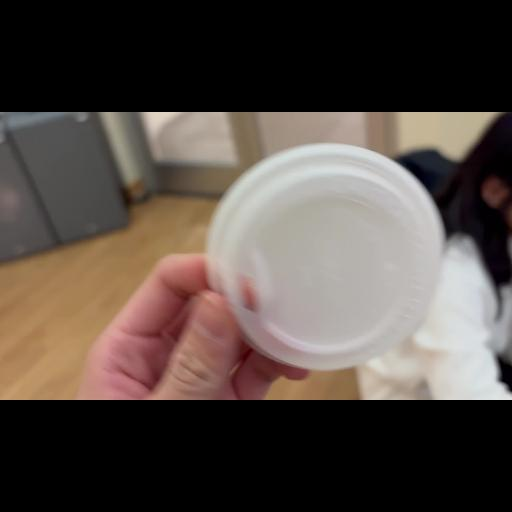lp_cup_lids: (198, 140, 456, 384)
